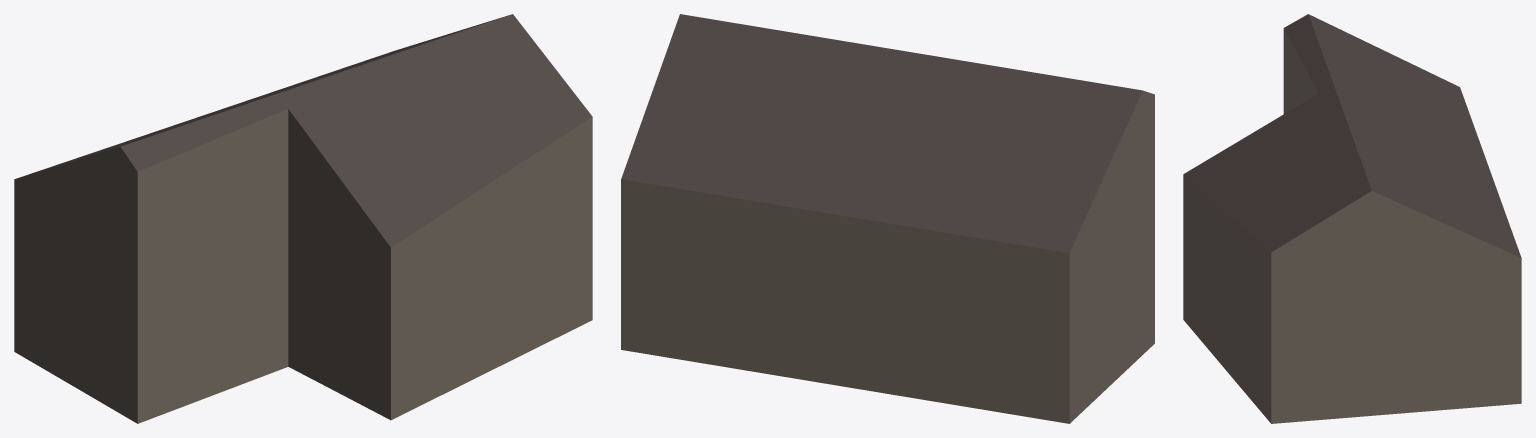
3 renders of one model, left to right at view 1: azimuth 30°, elevation 25°; view 2: azimuth 150°, elevation 25°; view 3: azimuth 270°, elevation 25°, orthographic. The views are drawn at different scales.
Visible parts, largest first — view 1: HP-w1197721337; view 2: HP-w1197721337; view 3: HP-w1197721337.
Boxes of the visible parts, <box> form: HP-w1197721337: <box>14,14,592,423</box>; HP-w1197721337: <box>621,14,1154,423</box>; HP-w1197721337: <box>1183,14,1521,423</box>.
Bounding box in the file's own units: 16.95 × 9.29 × 12.66.
